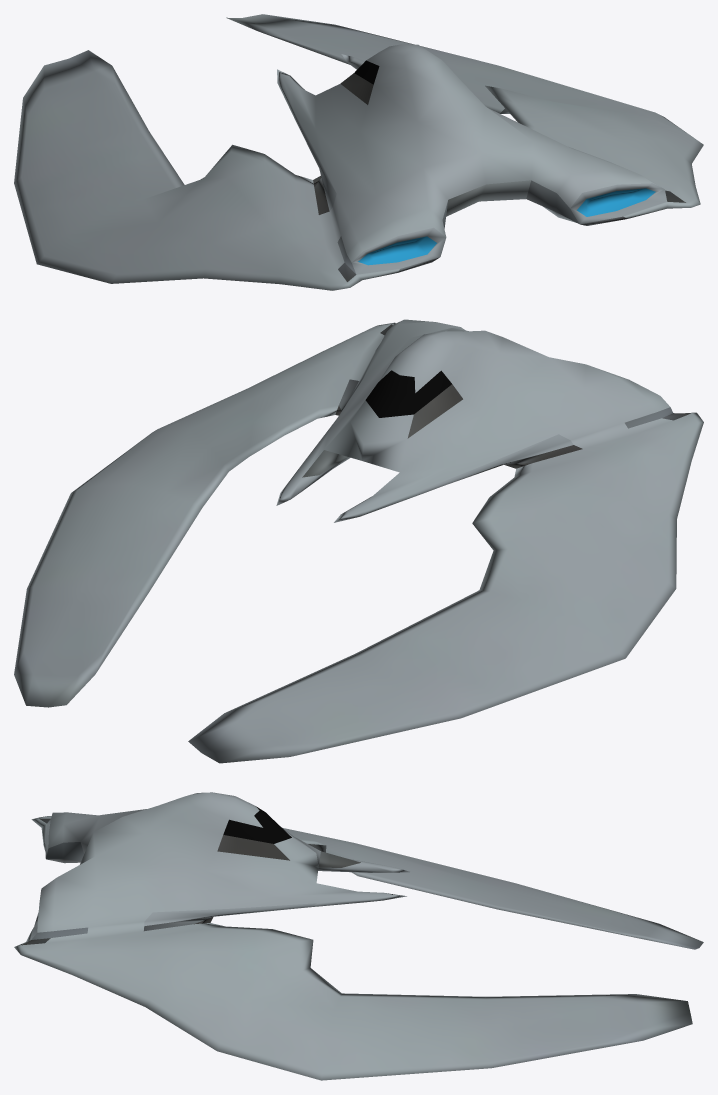
File: space_craft_001.obj
The picture shows the model from 3 angles, top to bottom: view 1: azimuth 30°, elevation 25°; view 2: azimuth 150°, elevation 25°; view 3: azimuth 270°, elevation 25°; orthographic projection. The views are drawn at different scales.
Parts seen in each view (by area): view 1: pCube1; view 2: pCube1; view 3: pCube1.
Part boxes in pixels (x1,y1,x2,y2): pCube1: (14,14,703,290); pCube1: (14,319,703,763); pCube1: (14,792,703,1080).
Size of the model in its own units: 7.05 by 2.41 by 8.36.
Materials: 3 (1 with a texture image).
